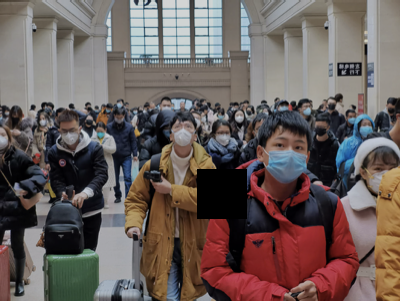with_mask: (262, 135, 308, 184), (364, 160, 398, 197), (170, 121, 195, 147), (60, 125, 79, 144), (214, 128, 231, 146), (357, 120, 373, 138), (313, 123, 328, 136), (0, 129, 9, 149), (345, 112, 356, 125), (300, 103, 311, 115), (192, 114, 201, 128), (9, 112, 21, 122), (234, 113, 245, 123), (96, 128, 106, 138), (38, 116, 48, 126), (160, 102, 171, 111), (326, 101, 336, 110), (278, 103, 288, 111), (114, 115, 124, 123), (386, 105, 395, 113), (85, 116, 93, 125), (218, 112, 225, 119), (116, 101, 123, 108), (245, 108, 252, 114), (105, 107, 112, 112)
without_mask: (179, 103, 185, 109)
